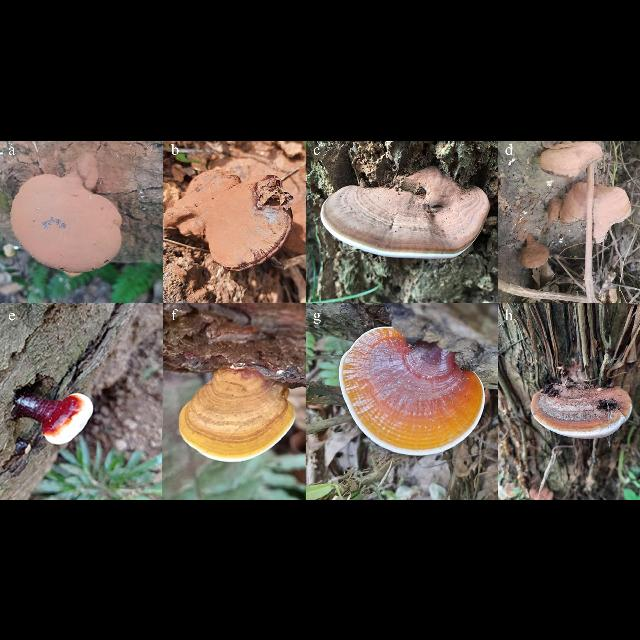ganoderma: (341, 330, 488, 457), (325, 186, 494, 261), (181, 168, 295, 275), (178, 367, 300, 464), (10, 173, 125, 274), (532, 367, 635, 439), (546, 180, 635, 243), (14, 394, 95, 447), (540, 142, 607, 179), (521, 242, 553, 271)
